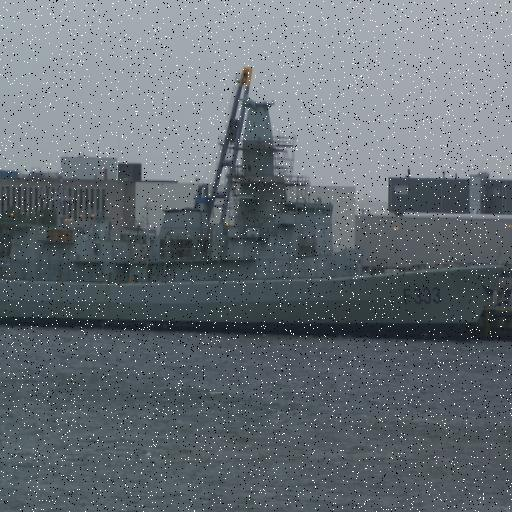Fragata: (1, 84, 511, 357)
